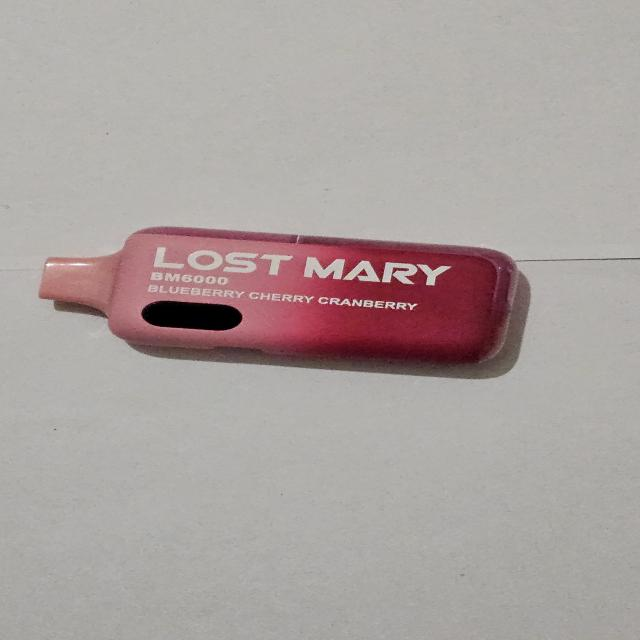Hazard: (38, 224, 526, 370)
